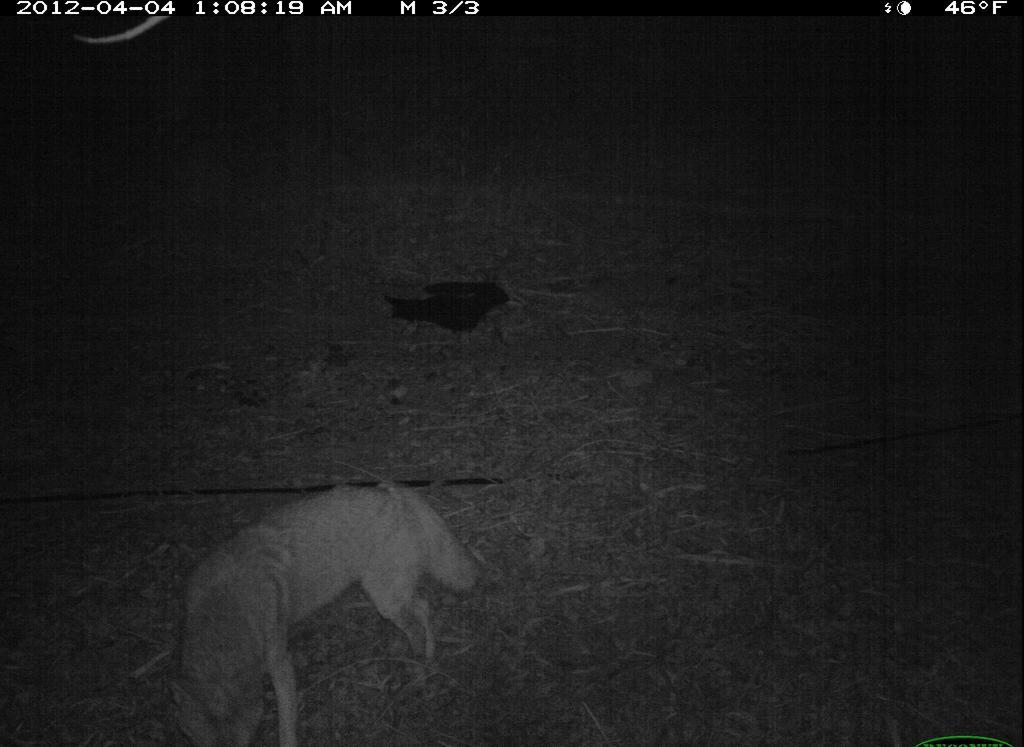coyote: (159, 469, 483, 745)
